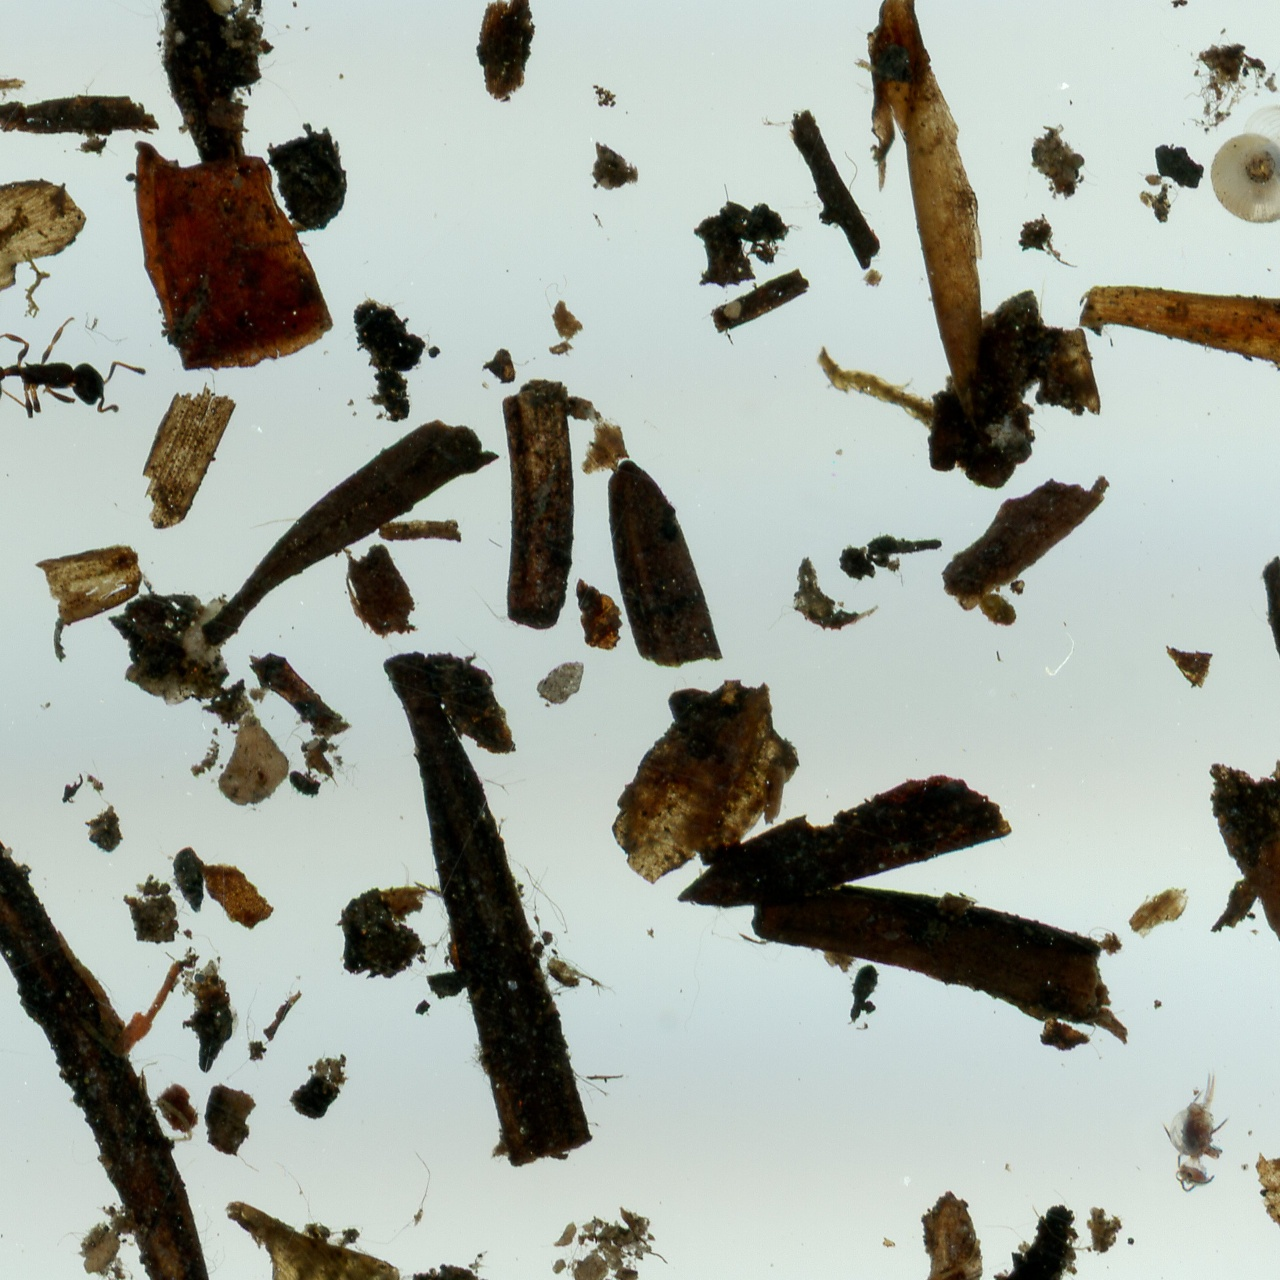arthropod: (0, 316, 148, 421), (1159, 1060, 1232, 1200), (1203, 100, 1280, 227), (182, 956, 238, 1074), (574, 573, 626, 655)
